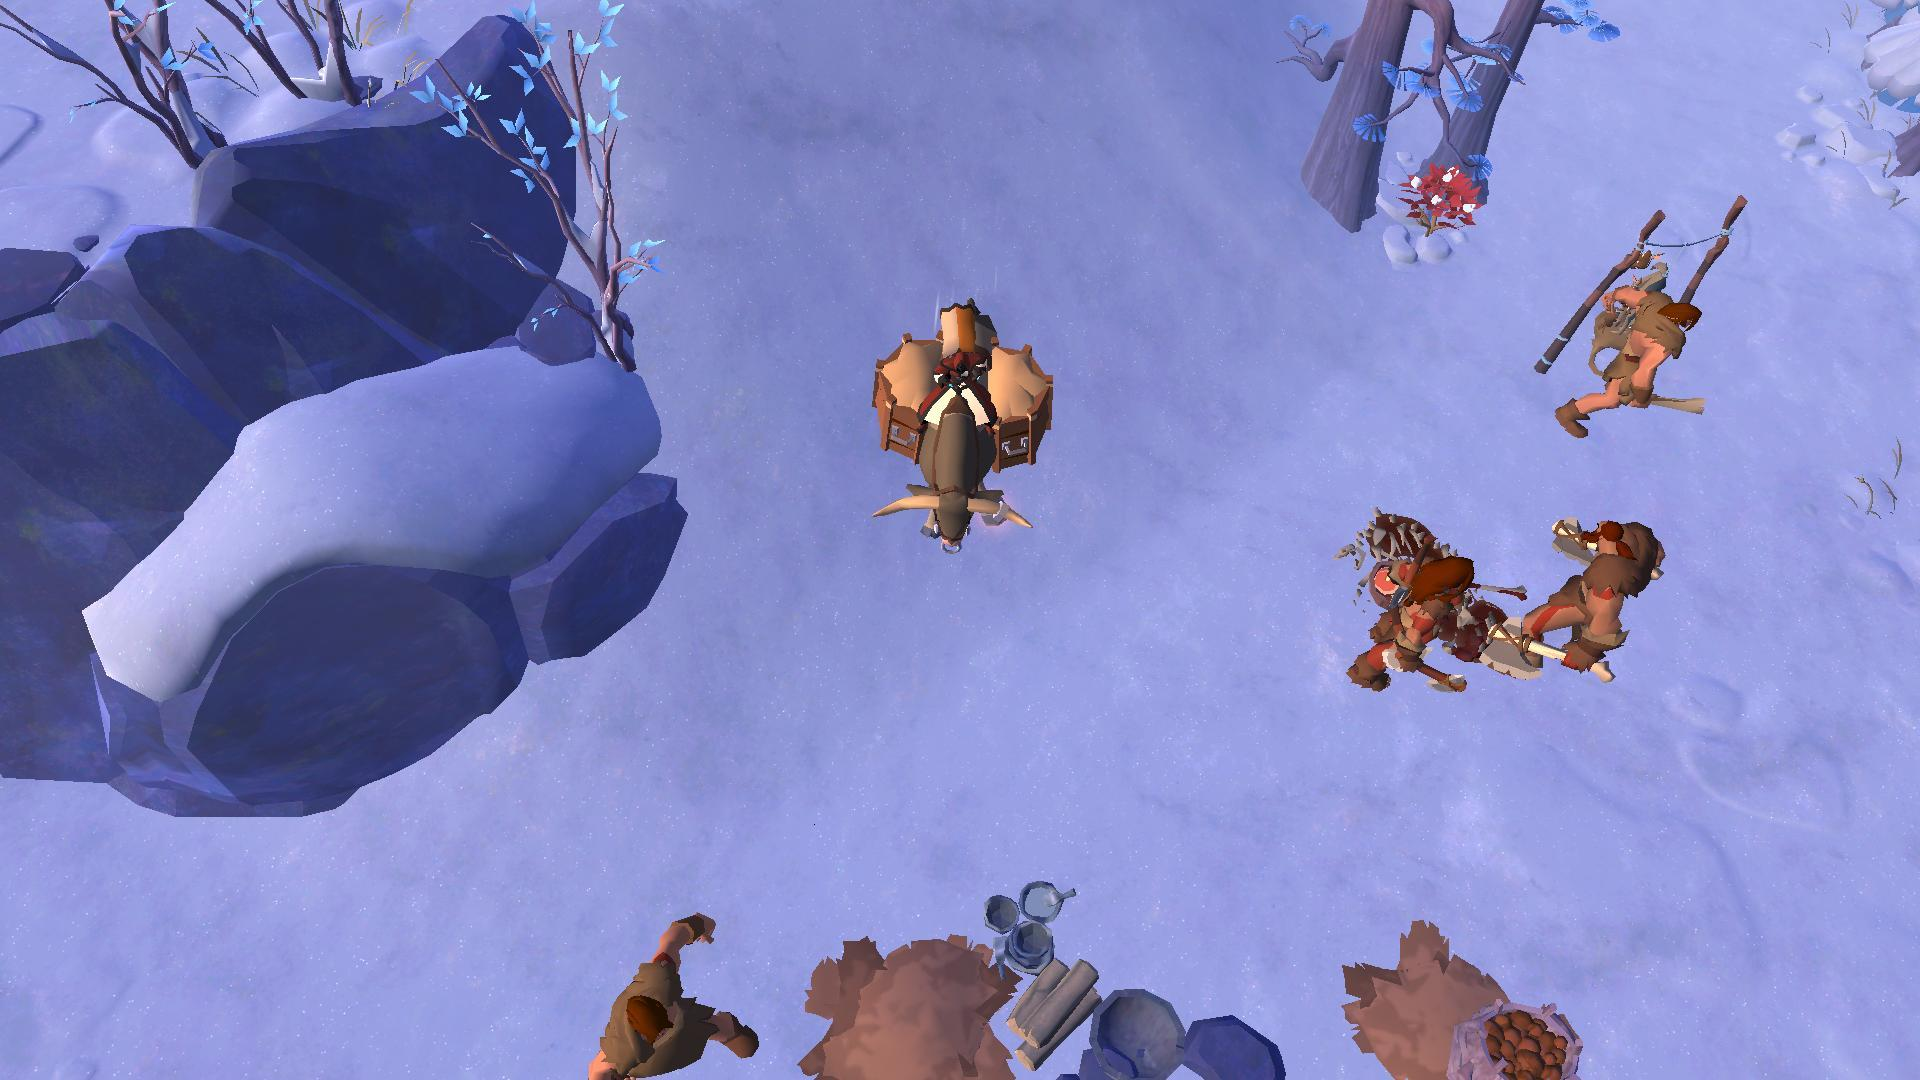enemy_factionKeeper: (567, 913, 749, 1080), (1547, 272, 1710, 450), (1332, 527, 1476, 700), (1513, 514, 1662, 675)
fiber_t5: (1398, 158, 1482, 235)
